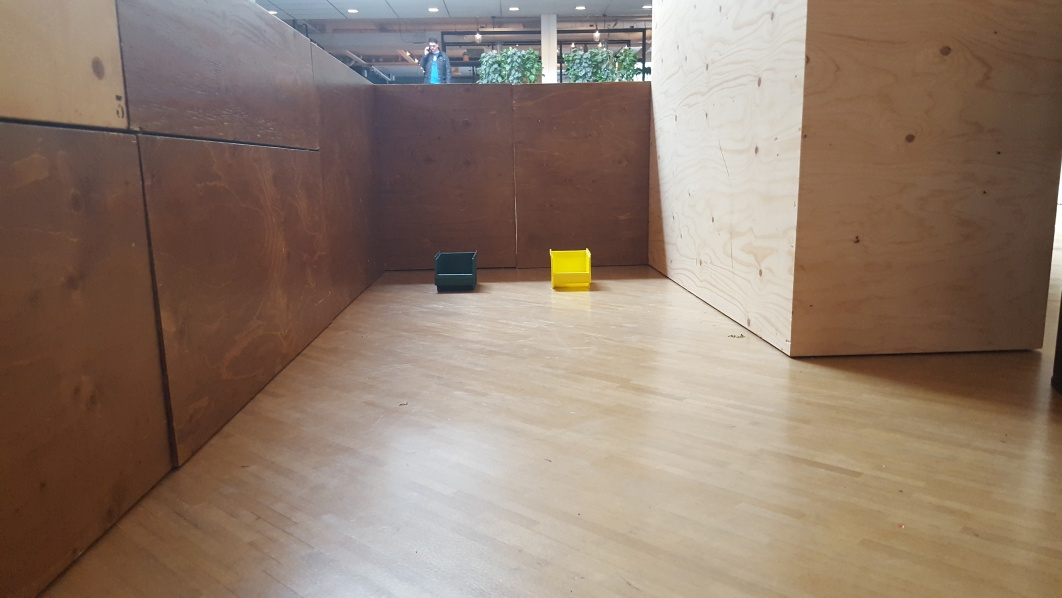tray: (542, 242, 593, 288), (429, 248, 483, 287)
